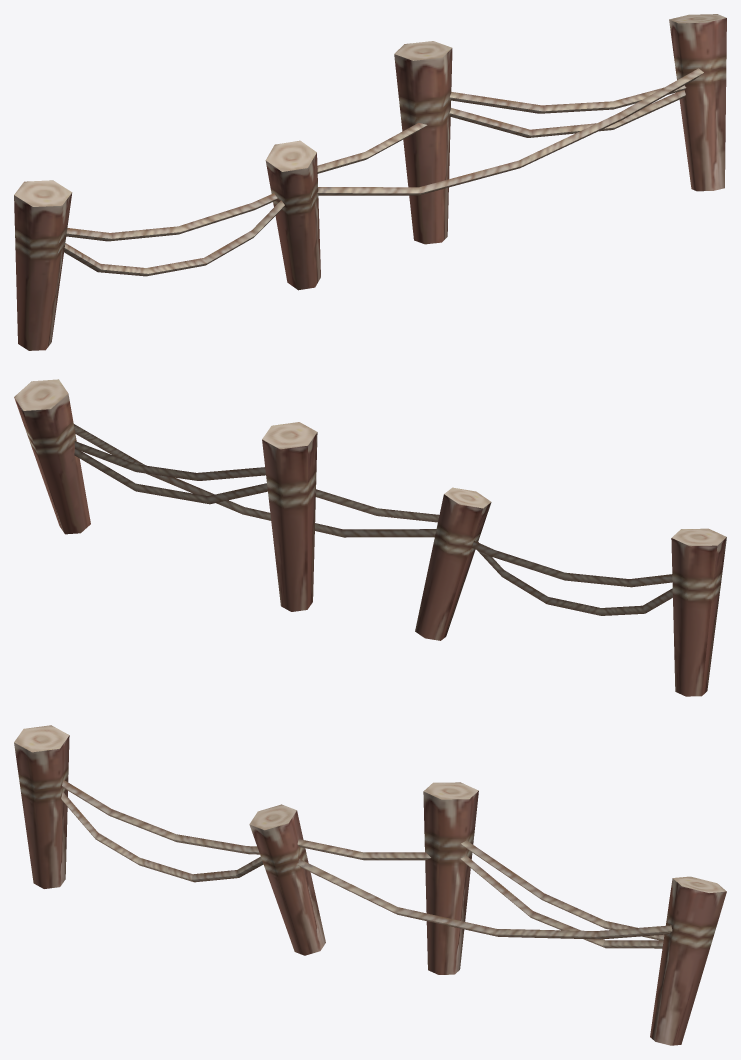
Rendered from Map_05_fence01.FBX.
The picture shows the model from 3 angles, top to bottom: view 1: azimuth 30°, elevation 25°; view 2: azimuth 150°, elevation 25°; view 3: azimuth 330°, elevation 25°; orthographic projection. The views are drawn at different scales.
Visible parts, largest first — view 1: Map_05_fence01; view 2: Map_05_fence01; view 3: Map_05_fence01.
Part boxes in pixels (x1,y1,x2,y2): Map_05_fence01: (14,14,726,350); Map_05_fence01: (14,379,726,696); Map_05_fence01: (14,725,726,1045).
Size of the model in its own units: 503 by 128 by 65.98.
